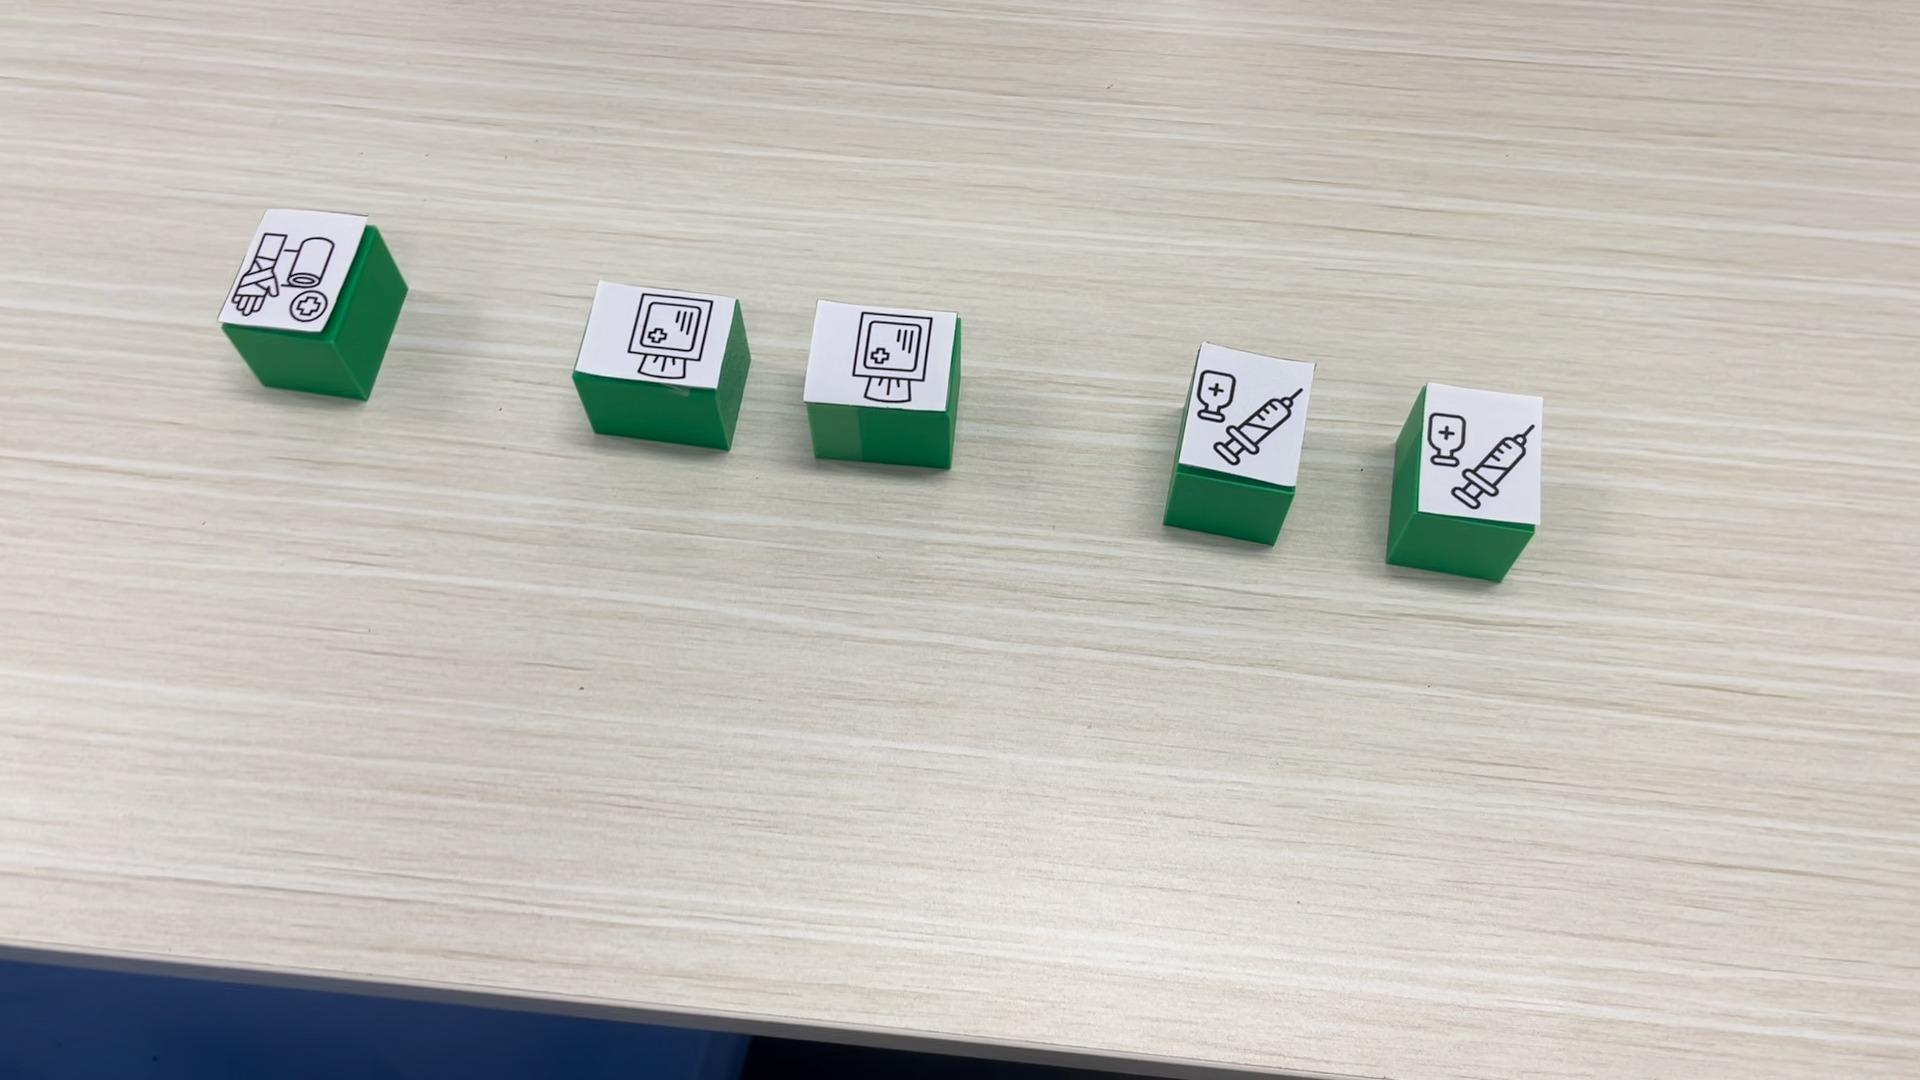Bandages: (218, 204, 407, 401)
Gauze: (571, 278, 750, 450), (802, 297, 959, 468)
antiseptic cream: (1386, 381, 1545, 583), (1160, 342, 1313, 545)
